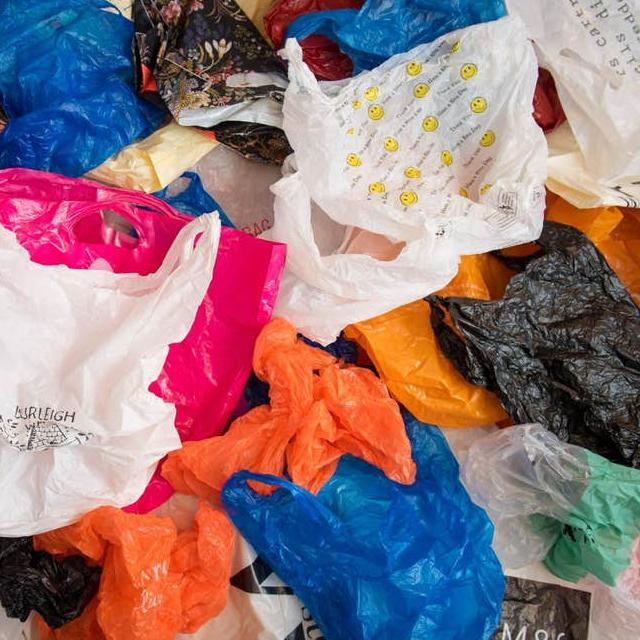Single-layer Plastic: (0, 215, 221, 536), (221, 411, 505, 640), (281, 15, 548, 254), (426, 221, 640, 467), (162, 320, 416, 504), (443, 424, 640, 640), (265, 174, 459, 344), (0, 0, 165, 176), (150, 228, 285, 439), (34, 501, 234, 640), (507, 0, 640, 208), (345, 300, 509, 428), (0, 169, 191, 274), (286, 0, 506, 74), (545, 192, 640, 306), (85, 122, 219, 192), (0, 536, 101, 628)
